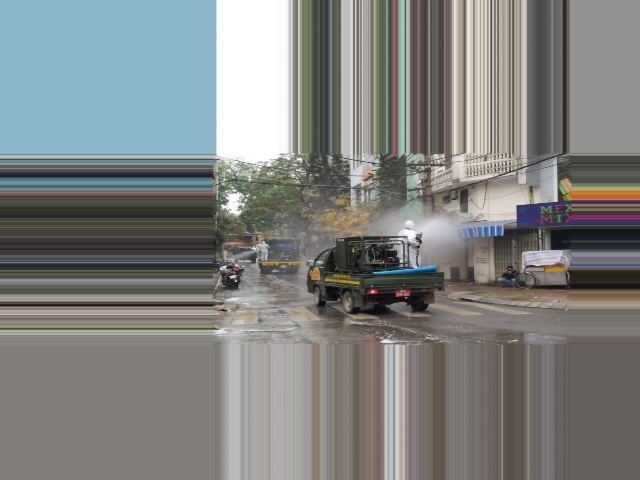plate: (395, 287, 411, 299)
